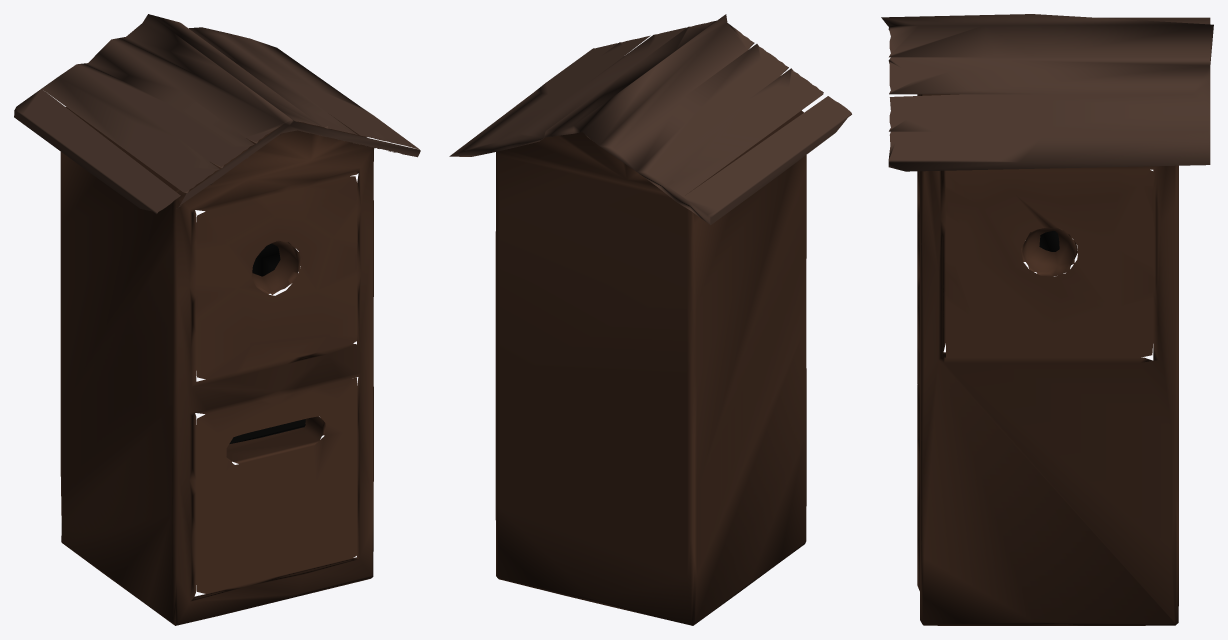
Rendered from water_station.glb.
The picture shows the model from 3 angles, left to right: view 1: azimuth 30°, elevation 25°; view 2: azimuth 150°, elevation 25°; view 3: azimuth 270°, elevation 25°; orthographic projection. The views are drawn at different scales.
Visible parts, largest first — view 1: water_station; view 2: water_station; view 3: water_station.
Boxes of the visible parts, x1,y1,x2,y2 form: water_station: (14, 14, 420, 625); water_station: (449, 14, 851, 625); water_station: (881, 14, 1213, 625).
Size of the model in its own units: 0.76 by 1.38 by 0.7451.
